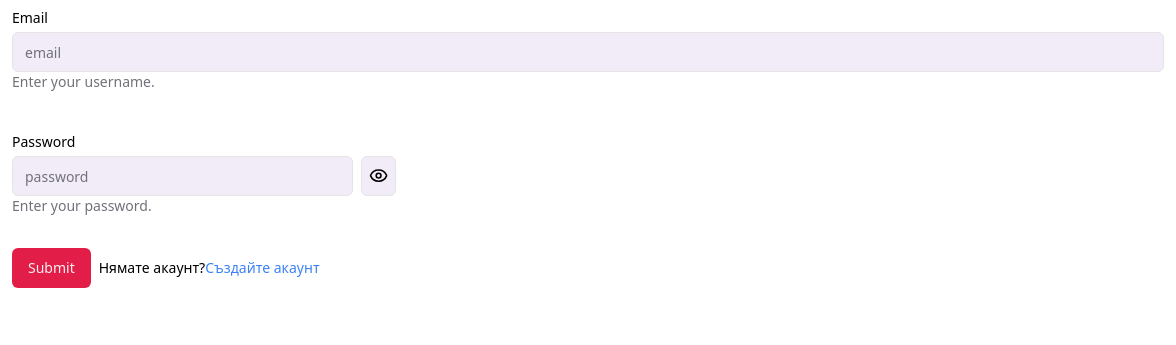
LoginForm Component › shows validation errors for empty fields
Click the button "Submit" at (51, 268), box [12,248,91,288]
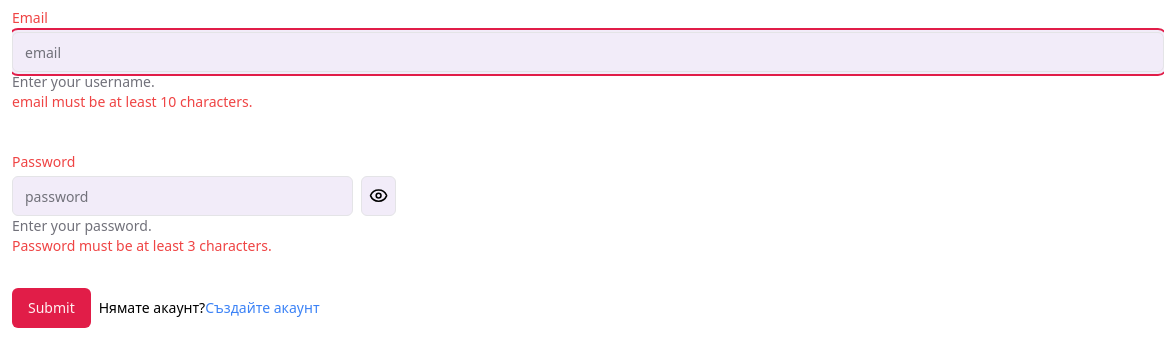
Now the text "email must be at least 10 characters." is shown, box [12,92,252,111]
Now the text "Password must be at least 3 characters." is shown, box [12,236,272,255]
